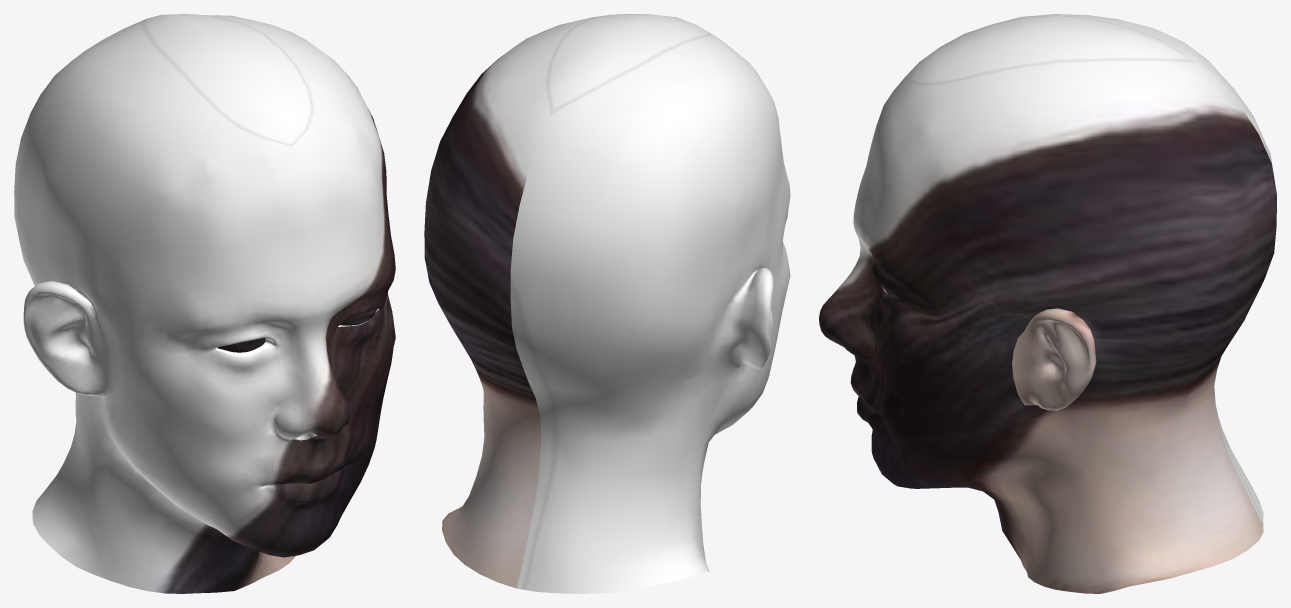
The model's file is Face_Fat_test.fbx.
3 renders of one model, left to right at view 1: azimuth 30°, elevation 25°; view 2: azimuth 150°, elevation 25°; view 3: azimuth 270°, elevation 25°, orthographic. The views are drawn at different scales.
Visible parts, largest first — view 1: Face_fatBS; view 2: Face_fatBS; view 3: Face_fatBS.
Boxes of the visible parts, <box> form: Face_fatBS: <box>14,14,395,593</box>; Face_fatBS: <box>424,14,790,593</box>; Face_fatBS: <box>819,14,1276,593</box>.
Bounding box in the file's own units: 18.86 × 27.74 × 21.76.
